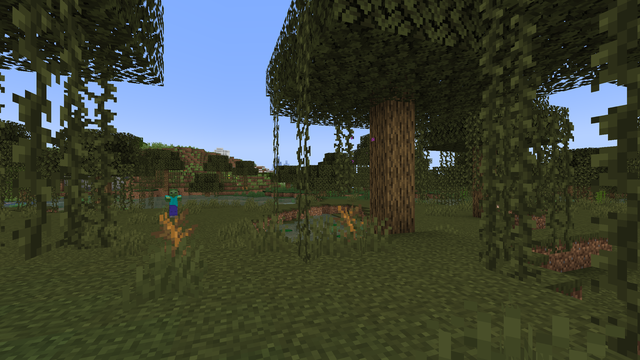zombies: (167, 189, 178, 217)
